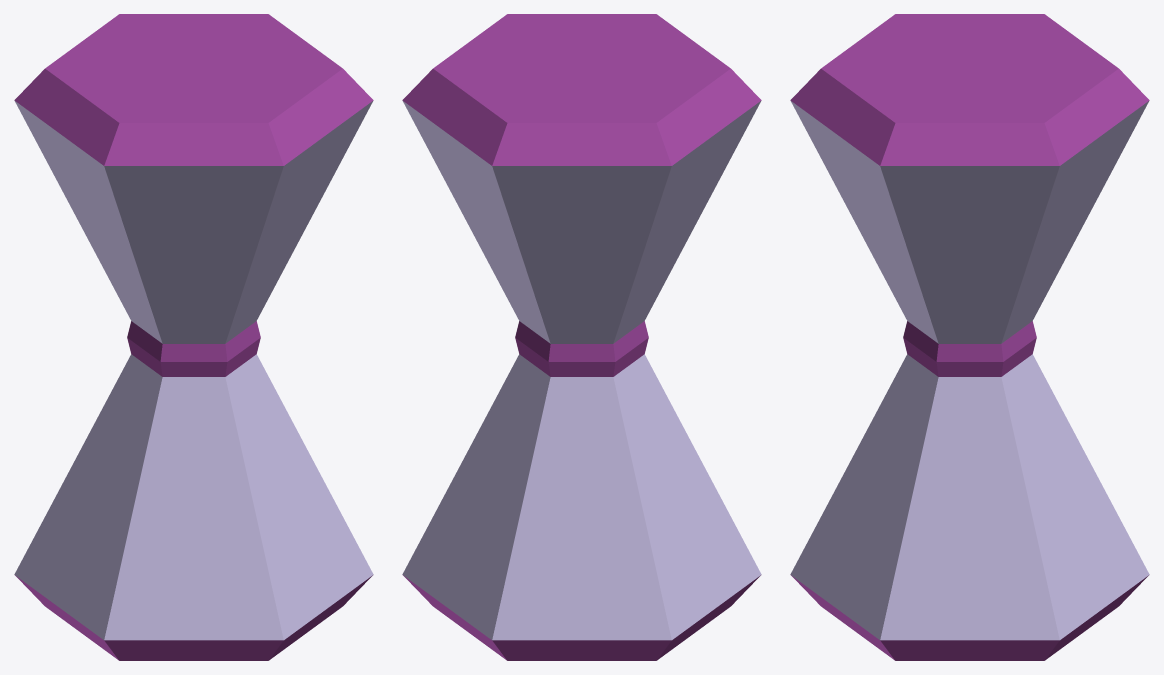
The model's file is time_capsule.gltf.
The picture shows the model from 3 angles, left to right: view 1: azimuth 30°, elevation 25°; view 2: azimuth 150°, elevation 25°; view 3: azimuth 270°, elevation 25°; orthographic projection.
Parts seen in each view (by area): view 1: Cone; view 2: Cone; view 3: Cone.
Boxes of the visible parts, x1=… form: Cone: x1=14, y1=14, x2=373, y2=660; Cone: x1=402, y1=14, x2=761, y2=660; Cone: x1=790, y1=14, x2=1149, y2=660.
Bounding box in the file's own units: 1.63 × 3.11 × 1.88.
1 material, 1 textured.
